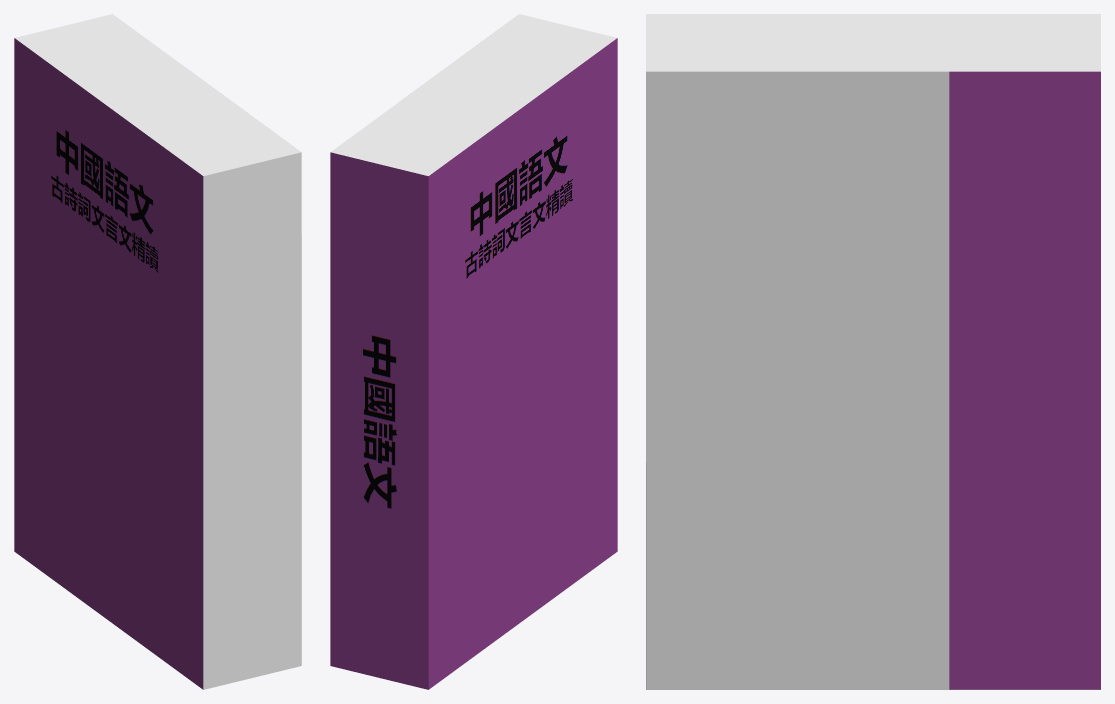
The model's file is 中文書.fbx.
The picture shows the model from 3 angles, left to right: view 1: azimuth 30°, elevation 25°; view 2: azimuth 150°, elevation 25°; view 3: azimuth 270°, elevation 25°; orthographic projection. The views are drawn at different scales.
Parts seen in each view (by area): view 1: 中文書; view 2: 中文書; view 3: 中文書.
Part boxes in pixels (x1,y1,x2,y2): 中文書: [14, 14, 301, 689]; 中文書: [330, 14, 617, 689]; 中文書: [646, 14, 1100, 689].
Bounding box in the file's own units: 3 × 15 × 10.
1 material, 1 textured.
